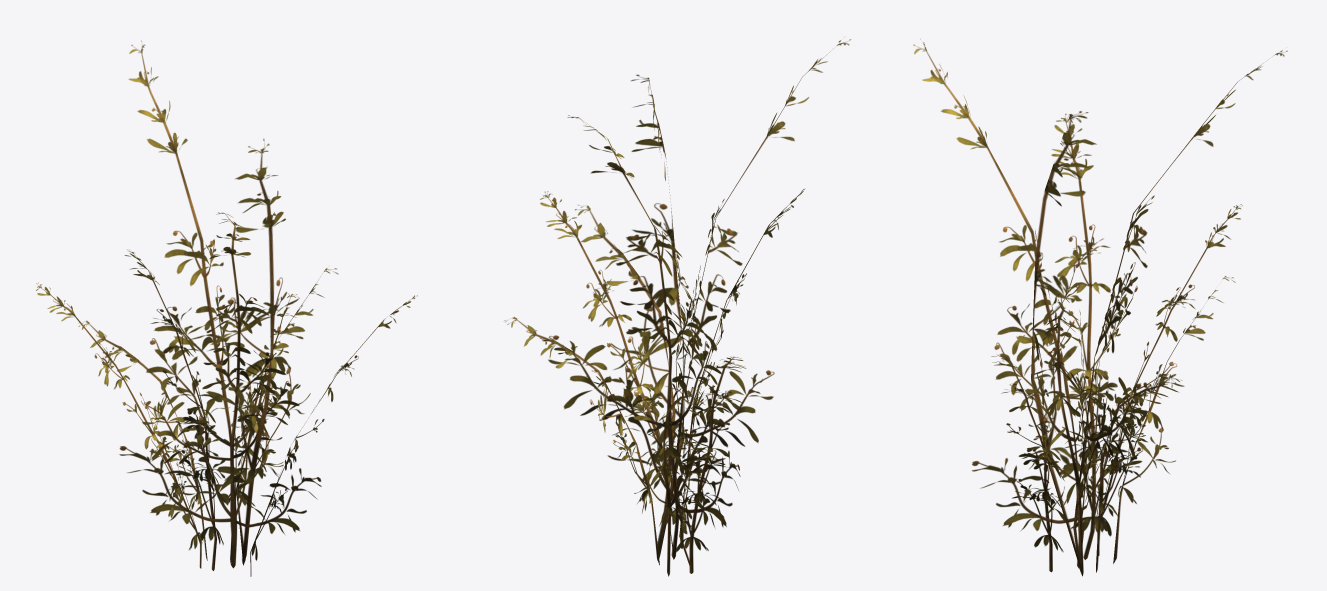
File: plant.glb
The picture shows the model from 3 angles, left to right: view 1: azimuth 30°, elevation 25°; view 2: azimuth 150°, elevation 25°; view 3: azimuth 270°, elevation 25°; orthographic projection. The views are drawn at different scales.
Parts seen in each view (by area): view 1: leaf3, leaf3_1, leaf1_2, leaf2, leaf2_2, leaf1_1, leaf1, leaf2_1, leaf1_3; view 2: leaf3, leaf3_1, leaf1_2, leaf2_1, leaf2_2, leaf1, leaf1_3, leaf1_1, leaf2; view 3: leaf3_1, leaf2, leaf3, leaf1_2, leaf1, leaf2_2, leaf2_1, leaf1_3, leaf1_1.
Boxes of the visible parts, x1,y1,x2,y2 form: leaf3: [119, 40, 283, 567]; leaf3_1: [142, 212, 321, 567]; leaf1_2: [206, 138, 310, 565]; leaf2: [124, 249, 225, 570]; leaf2_2: [36, 282, 203, 568]; leaf1_1: [78, 320, 207, 560]; leaf1: [237, 268, 338, 564]; leaf2_1: [250, 295, 417, 576]; leaf1_3: [223, 293, 299, 562]; leaf3: [548, 115, 740, 558]; leaf3_1: [670, 39, 850, 559]; leaf1_2: [611, 74, 706, 557]; leaf2_1: [540, 191, 692, 548]; leaf2_2: [665, 356, 745, 573]; leaf1: [575, 205, 675, 557]; leaf1_3: [504, 317, 659, 565]; leaf1_1: [634, 387, 705, 576]; leaf2: [679, 189, 804, 565]; leaf3_1: [913, 39, 1087, 568]; leaf2: [1051, 113, 1127, 559]; leaf3: [1073, 50, 1287, 568]; leaf1_2: [1031, 111, 1096, 574]; leaf1: [1024, 293, 1109, 575]; leaf2_2: [1097, 204, 1242, 555]; leaf2_1: [991, 355, 1068, 572]; leaf1_3: [1083, 376, 1182, 572]; leaf1_1: [1113, 276, 1235, 563].
Size of the model in its own units: 2.94 by 4.35 by 3.01.
Materials: 1 (1 with a texture image).
